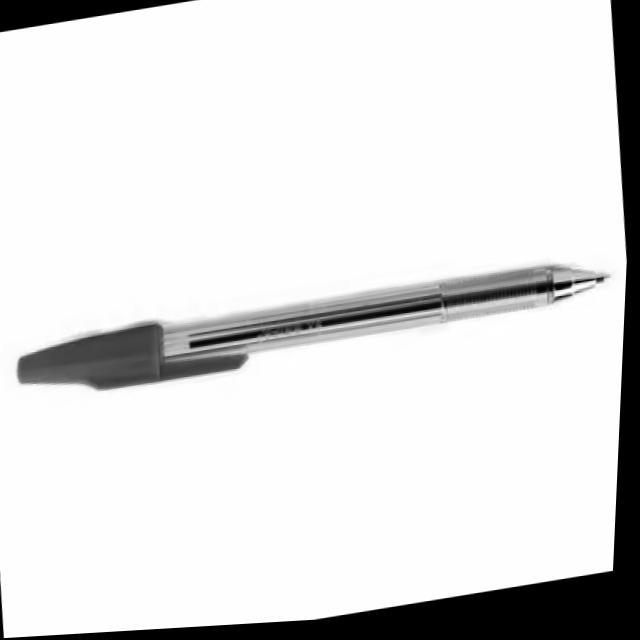pencil: (0, 254, 619, 410)
